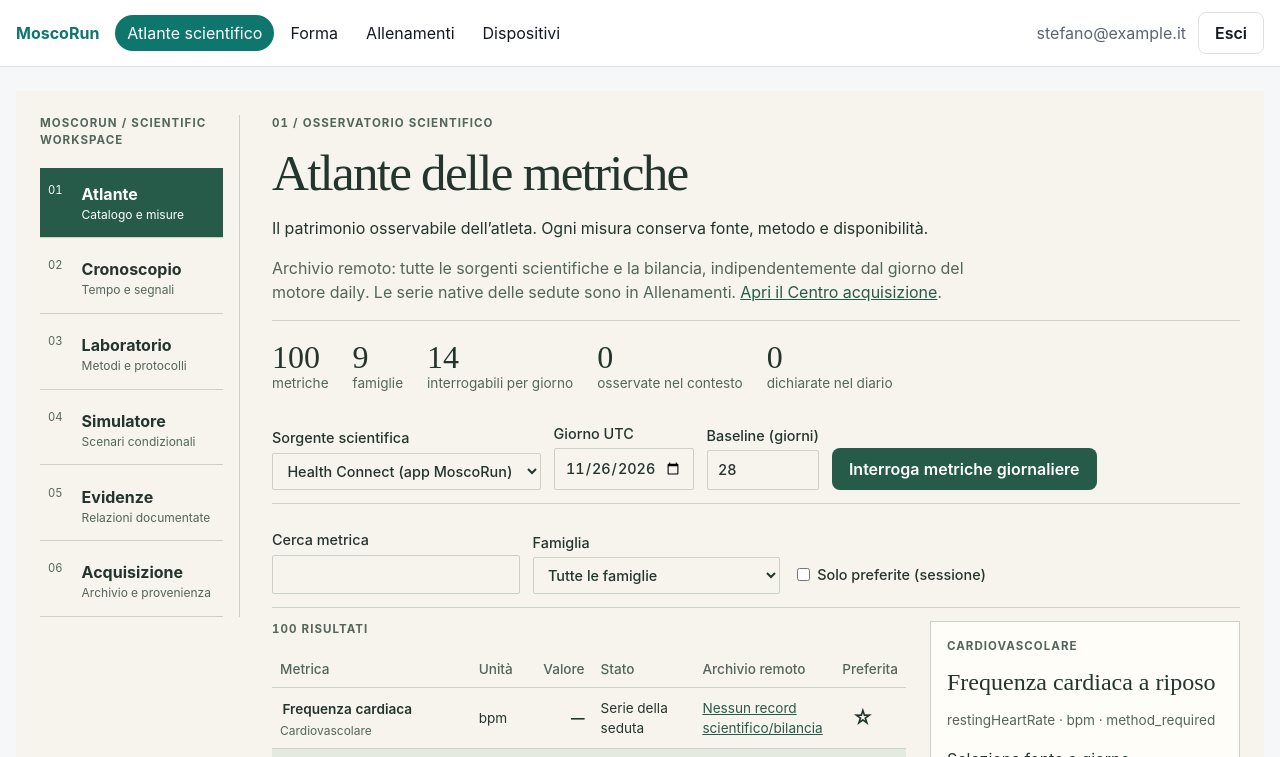
Scenario: centro acquisizione › dall'atlante distingue una metrica remota non esposta dal motore daily
In the search field labelled "Cerca metrica": (396, 575) [272, 555, 520, 594], type "spo2"
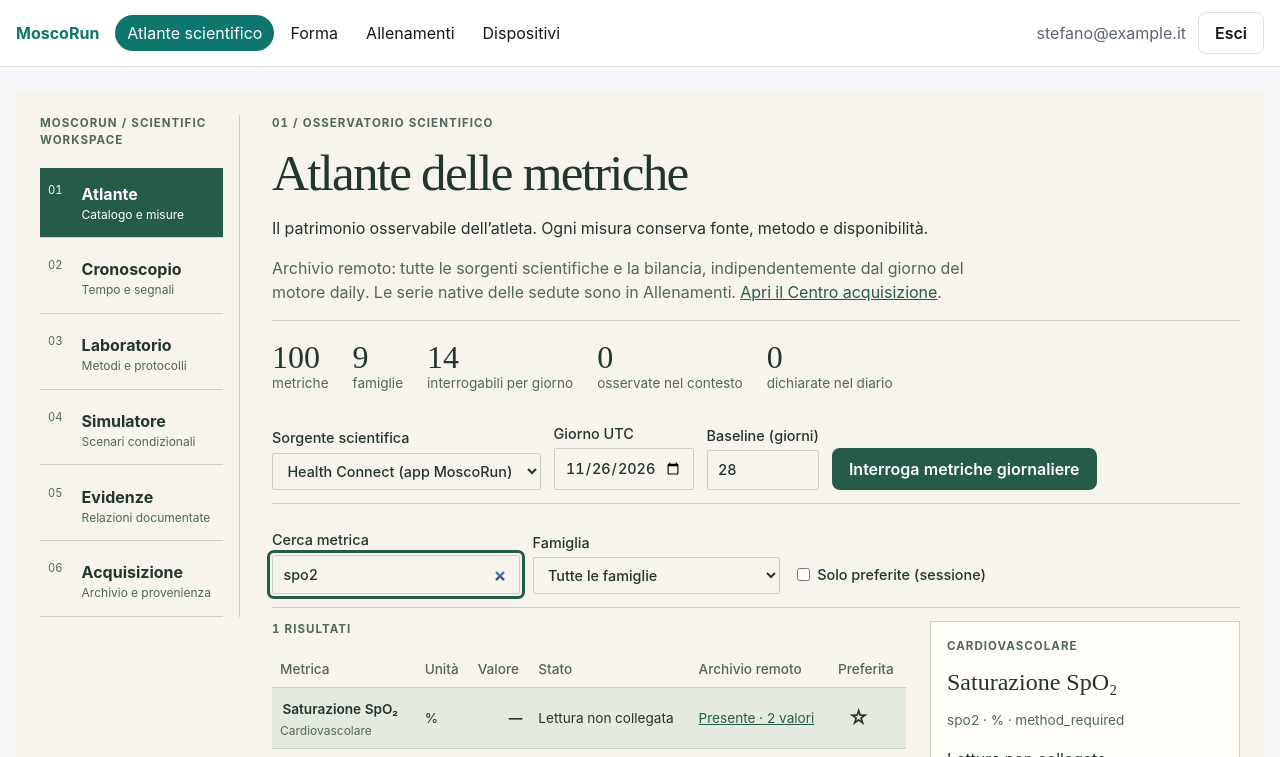
Click the link "Presente · 2 valori": (756, 718) [698, 710, 814, 726]
(page scrolled)
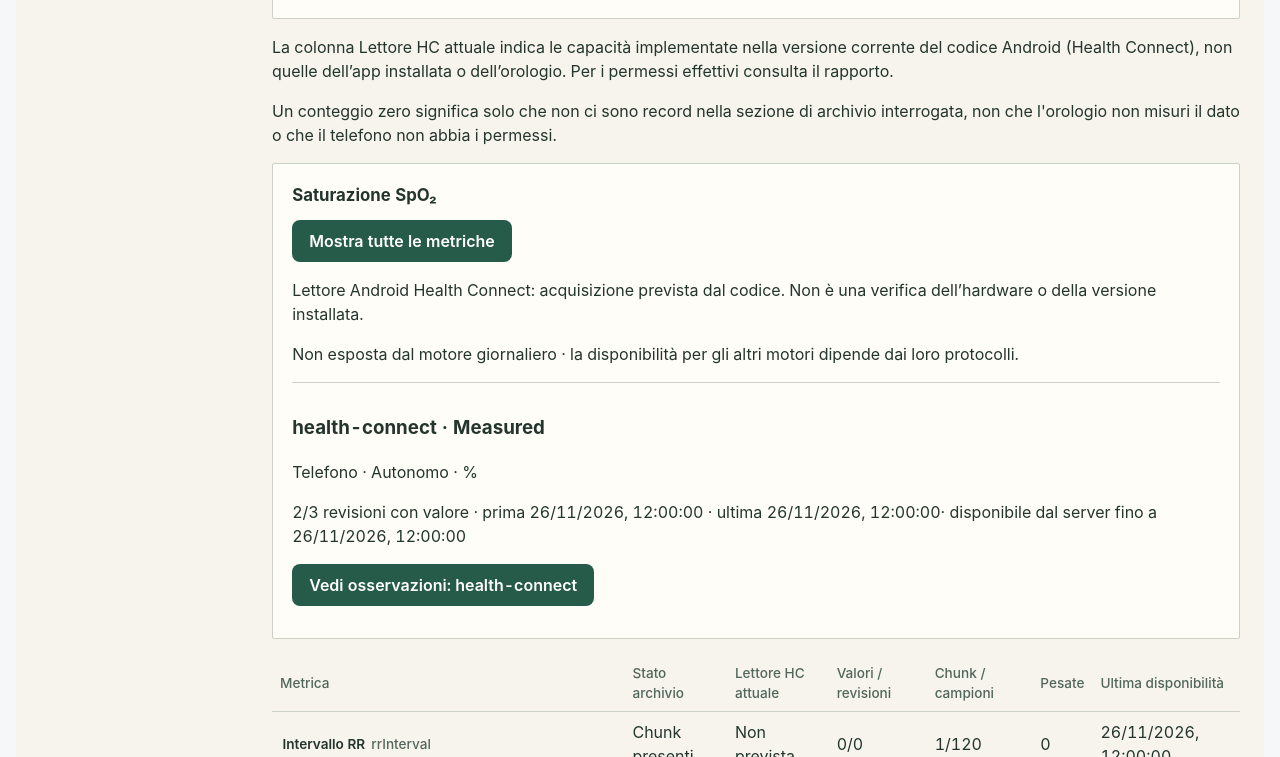
Expected: the element named "Provenienza della metrica" shows "Non esposta dal motore giornaliero", [292, 344, 557, 364]
